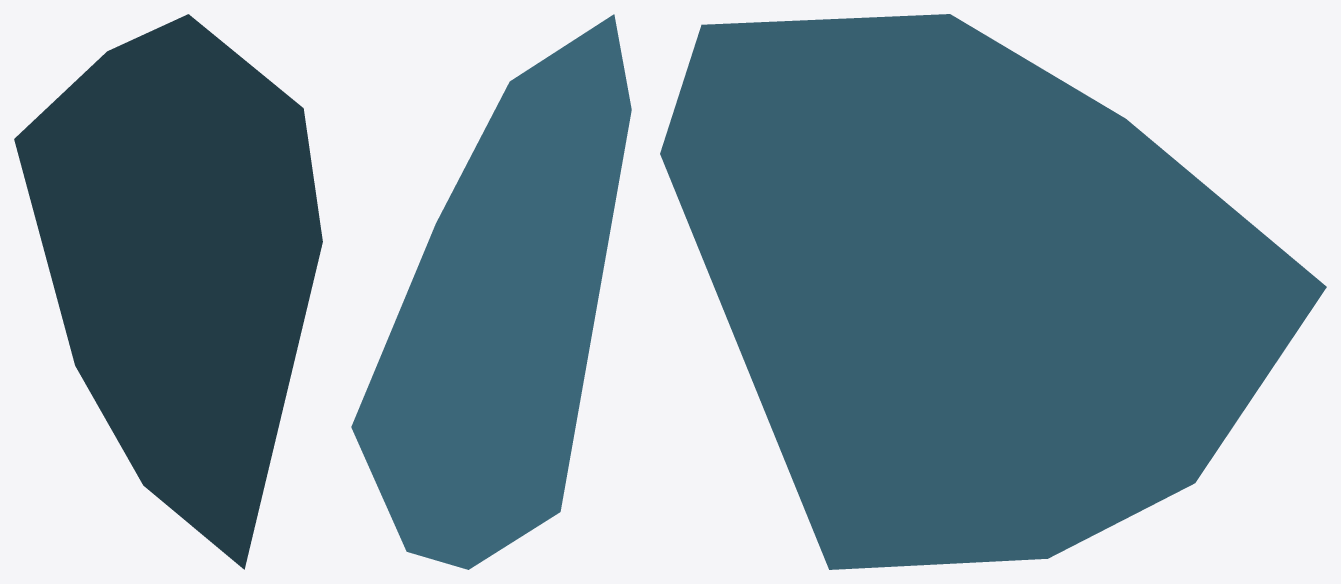
Rendered from NexusC_Cloth_3.fbx.
3 renders of one model, left to right at view 1: azimuth 30°, elevation 25°; view 2: azimuth 150°, elevation 25°; view 3: azimuth 270°, elevation 25°, orthographic. The views are drawn at different scales.
Parts seen in each view (by area): view 1: polySurface47; view 2: polySurface47; view 3: polySurface47.
Part boxes in pixels (x1,y1,x2,y2): polySurface47: (14,14,322,569); polySurface47: (351,14,631,569); polySurface47: (660,14,1326,569).
Bounding box in the file's own units: 0 × 48.11 × 52.31.
